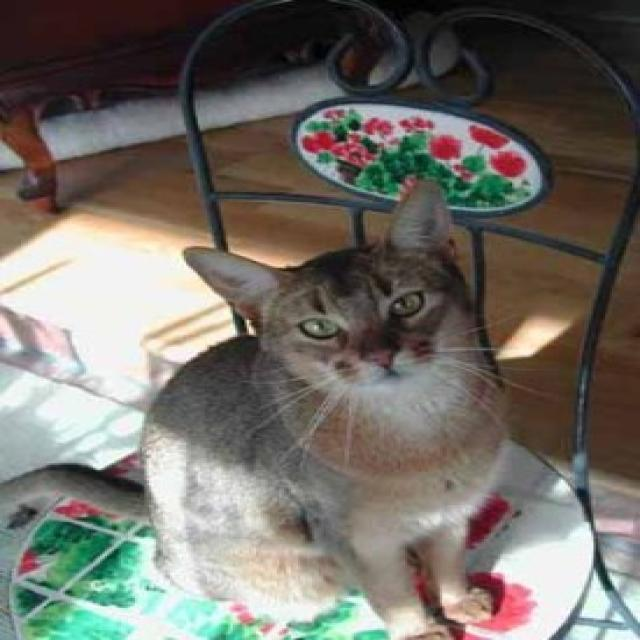Abyssinian: (181, 174, 505, 412)
